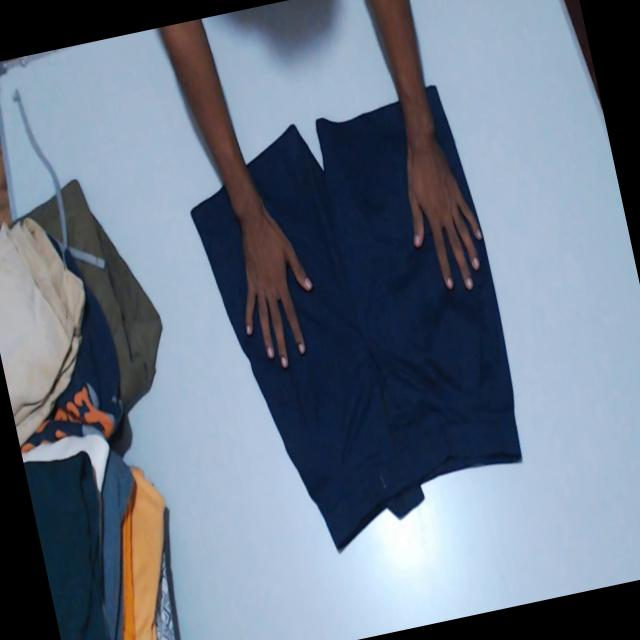new-garment: (191, 103, 520, 548), (426, 86, 475, 213)
